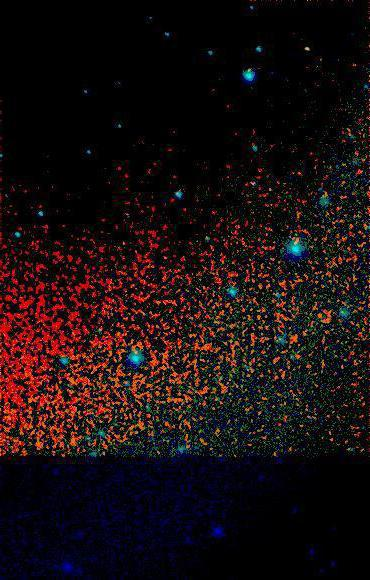star: (282, 226, 312, 256)
